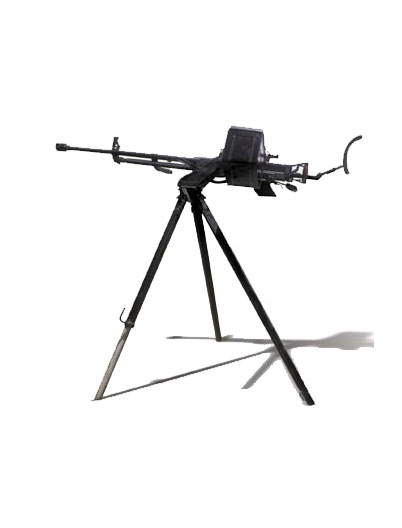rifle: (46, 111, 364, 200)
